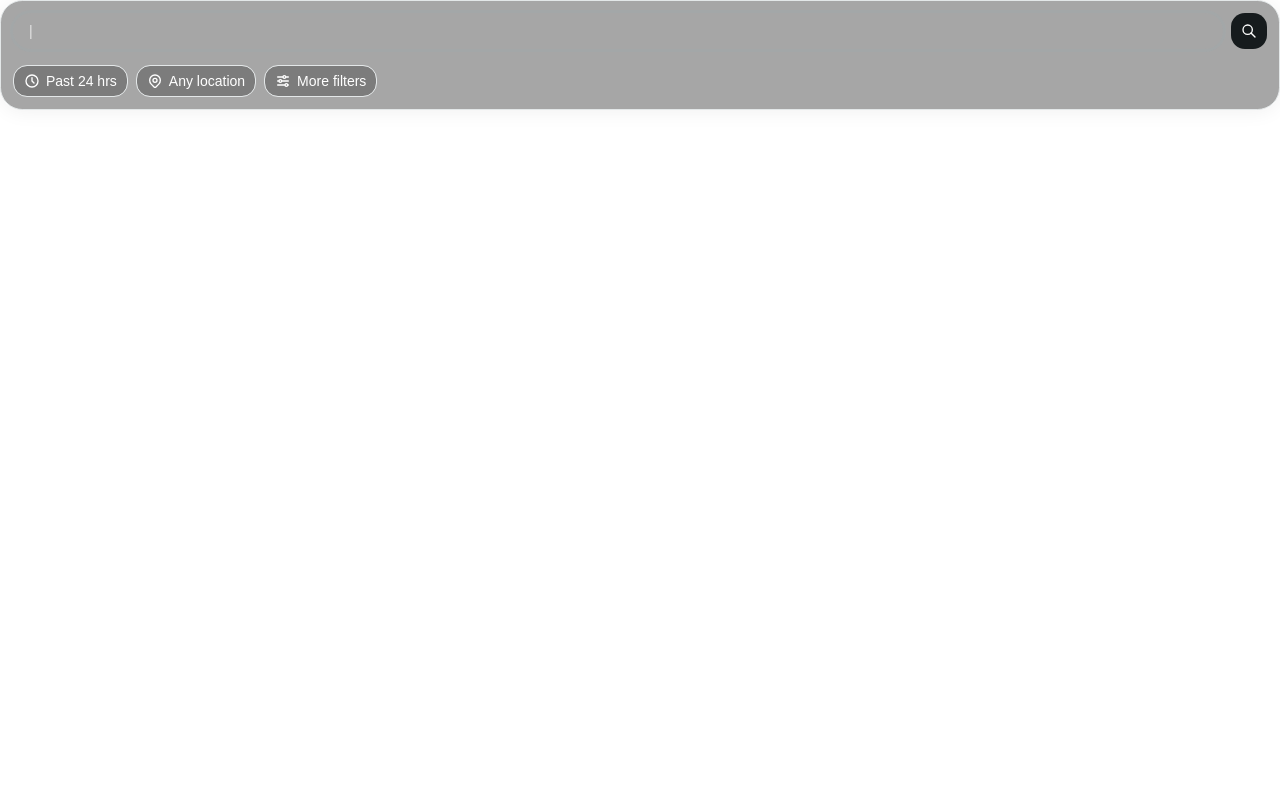
SearchToolbar › shows keywords and excludes fields in More filters
Click the button "More filters".
click(321, 81)  # box [264, 65, 377, 97]
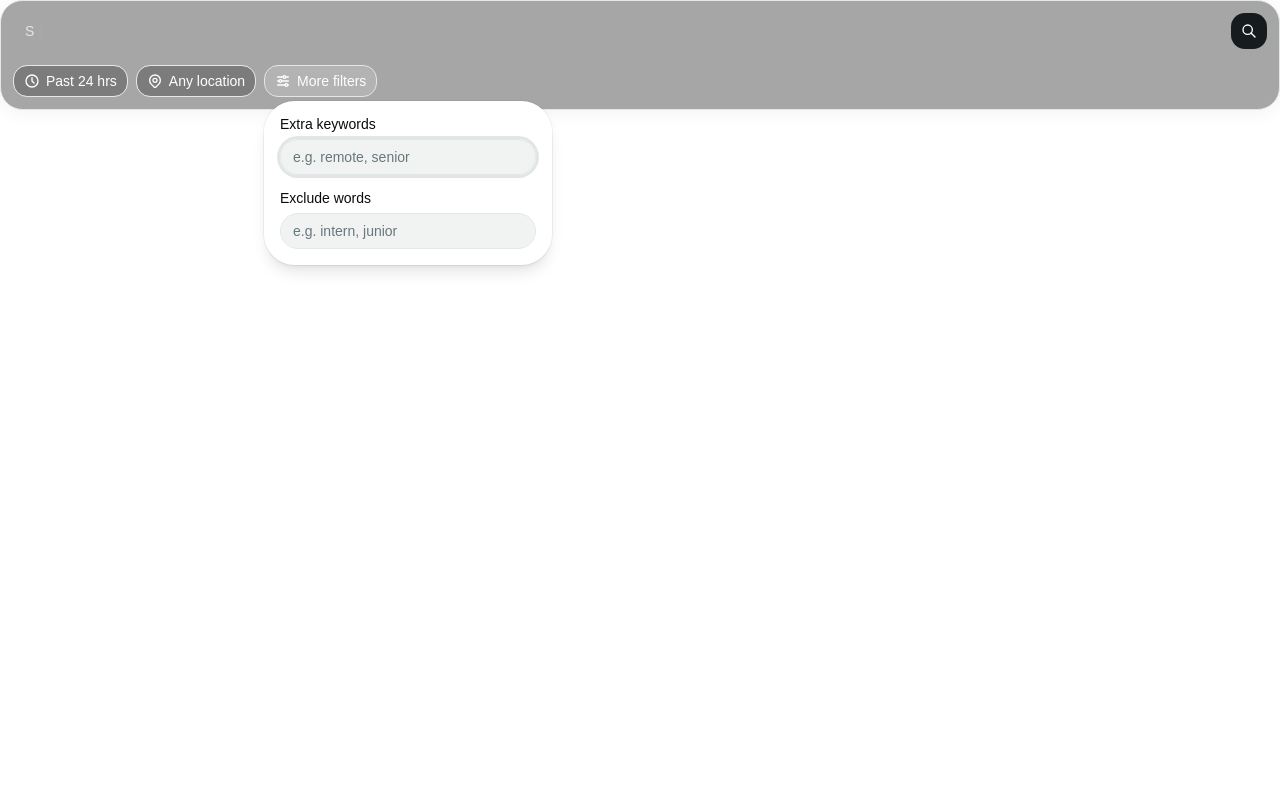
expect the field labelled "Extra keywords" is shown: met, box [280, 139, 536, 175]
expect the field labelled "Exclude words" is shown: met, box [280, 213, 536, 249]
